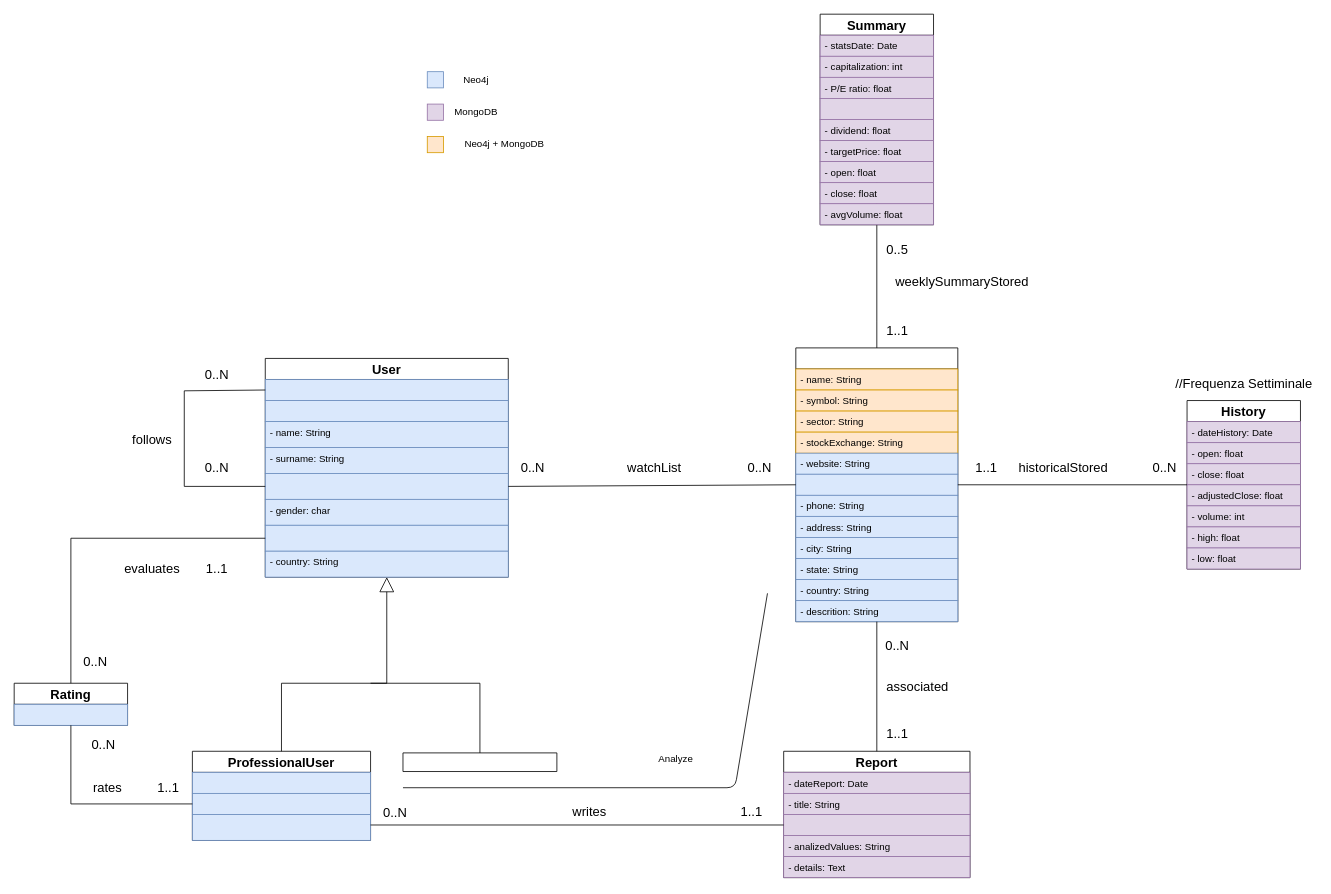
Some shapes in this 1331 by 894 pixel diagram are drawn without their labels. Each missing label, with the box of its shape:
- avarageRating: double: (192, 814, 371, 840)
- DateOfBirth: Date: (264, 473, 508, 499)
- email: String: (264, 524, 508, 551)
- EPS: float: (819, 98, 934, 119)
- fullTimesEmployees: int: (795, 473, 958, 495)
- password: String: (264, 400, 508, 422)
- Profession: String: (192, 772, 371, 793)
- SpecializationSector: String: (192, 793, 371, 814)
- typeReport: String: (783, 814, 970, 836)
- username: String: (264, 379, 508, 401)
- vote: int: (13, 703, 128, 725)
Administrator: (402, 752, 557, 772)
Company: (795, 347, 958, 622)
